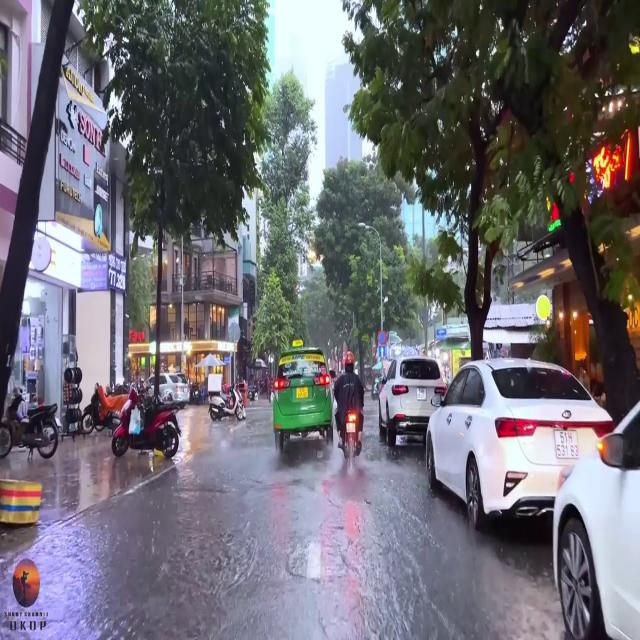bien_trang: (553, 427, 580, 461), (416, 388, 427, 402)
bien_vang: (296, 387, 308, 397)
